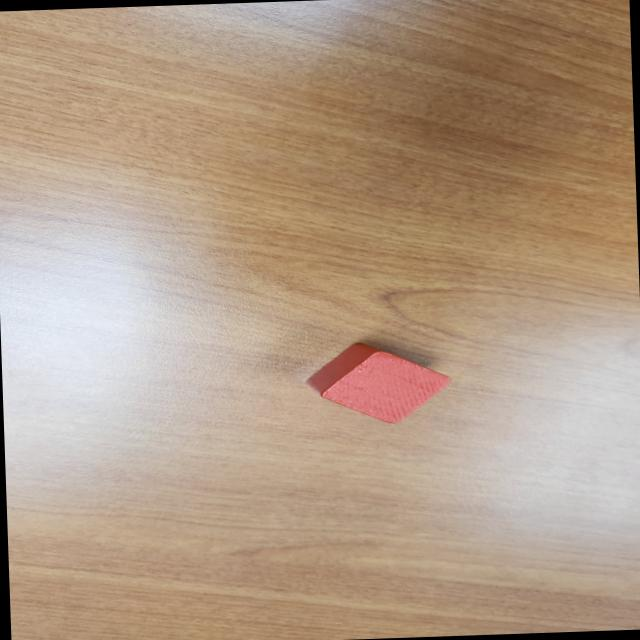red: (304, 340, 456, 428)
